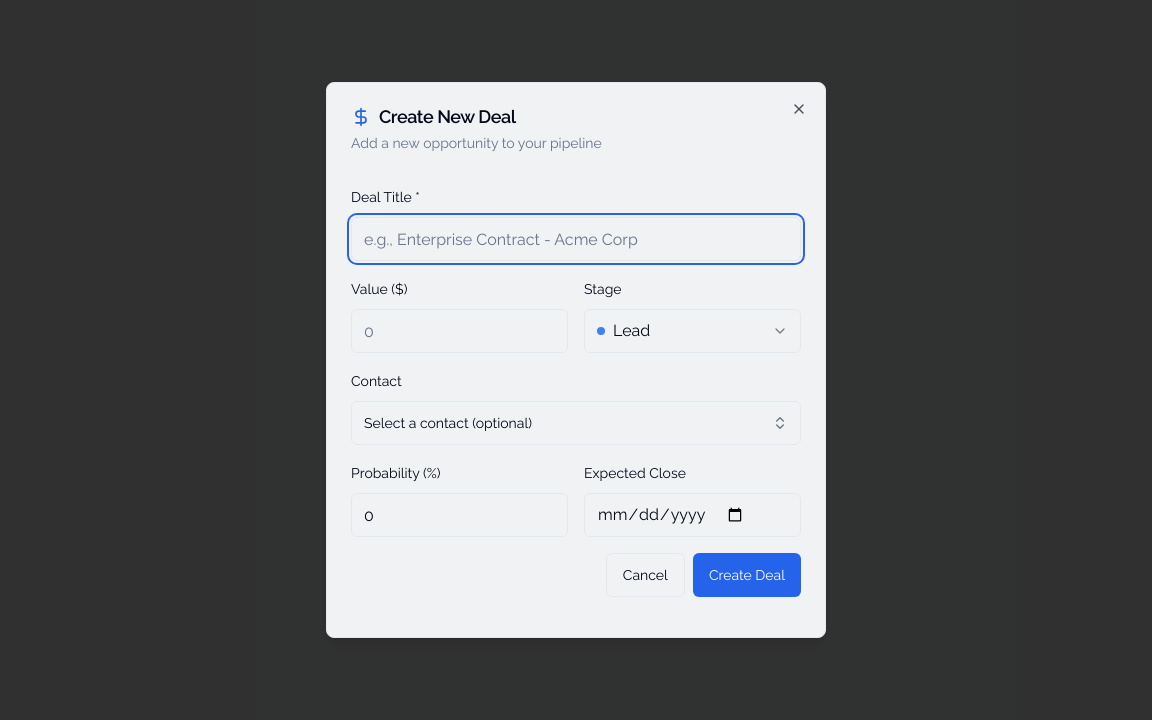
Test case: CreateDealModal › renders the optional no-contact selection without an empty Radix value
expect the dialog "Create New Deal" is shown: met, box [326,82,826,638]
Click the dropdown "Select a contact (optional)" at (448, 423), box [351,401,801,445]
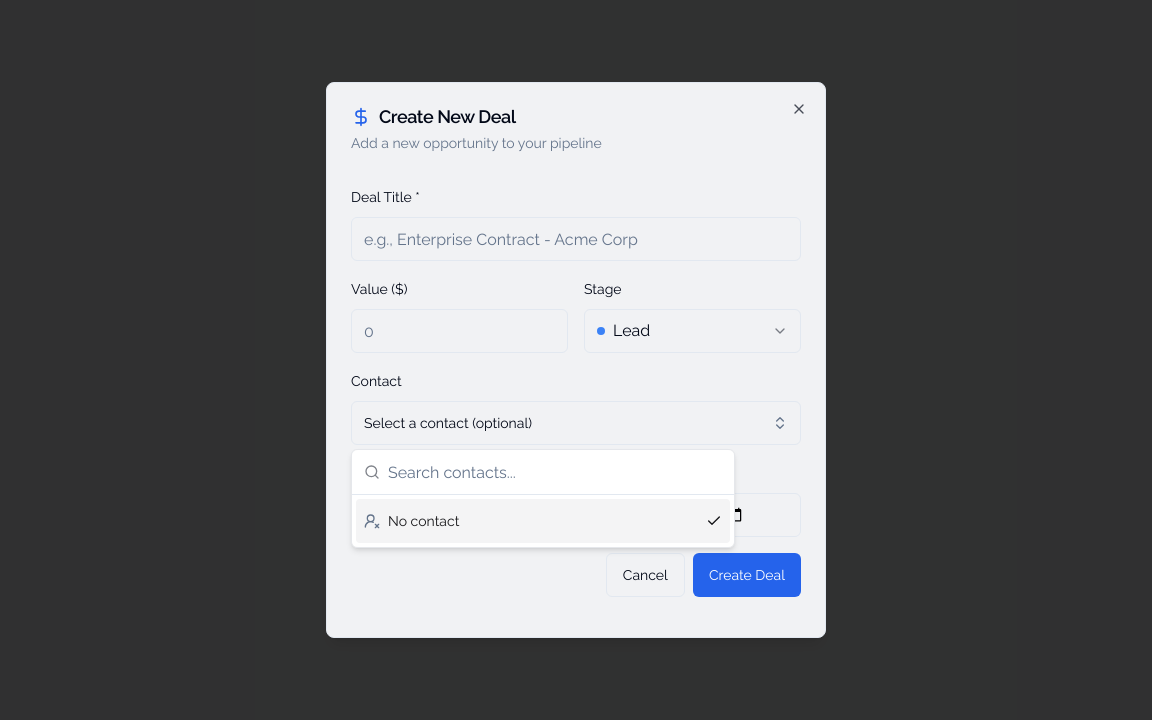
expect the text "No contact" is shown: met, box [388,511,459,531]
